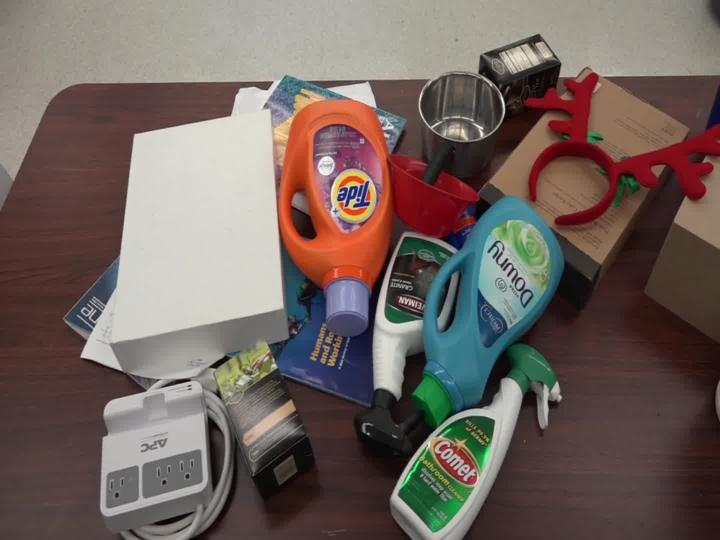downy: (394, 187, 576, 437)
